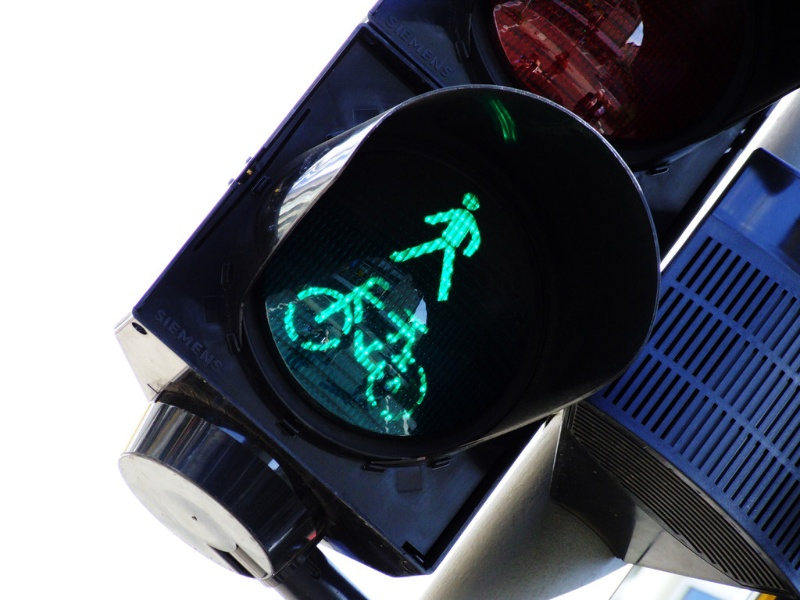cycle_route_ahead: (280, 272, 434, 426)
pedestrian_crossing_green: (386, 184, 489, 300)
